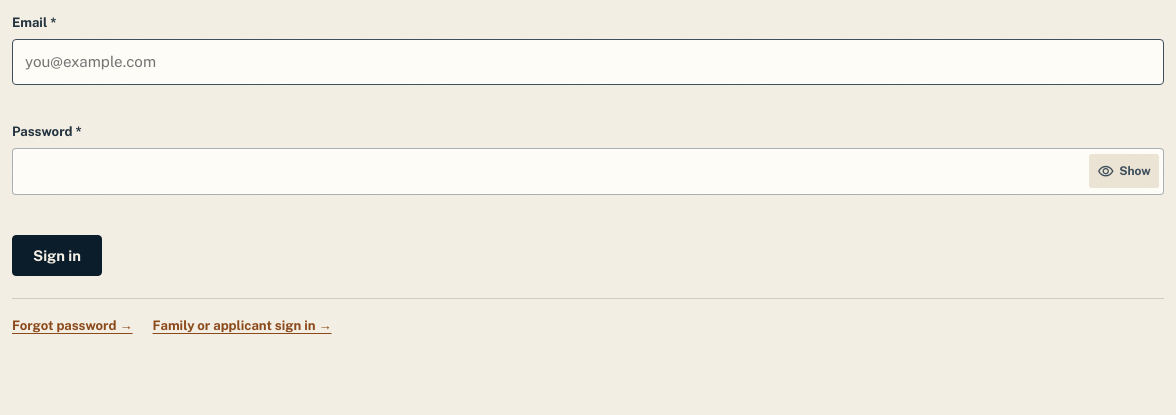
Test: Supabase sign-in privacy › shows a recoverable error for a failed staff sign-in
The image size is (1176, 415).
Step 1. Type "staff@example.test" into the field labelled "Email *" → (588, 62), box 12,39 -> 1164,85
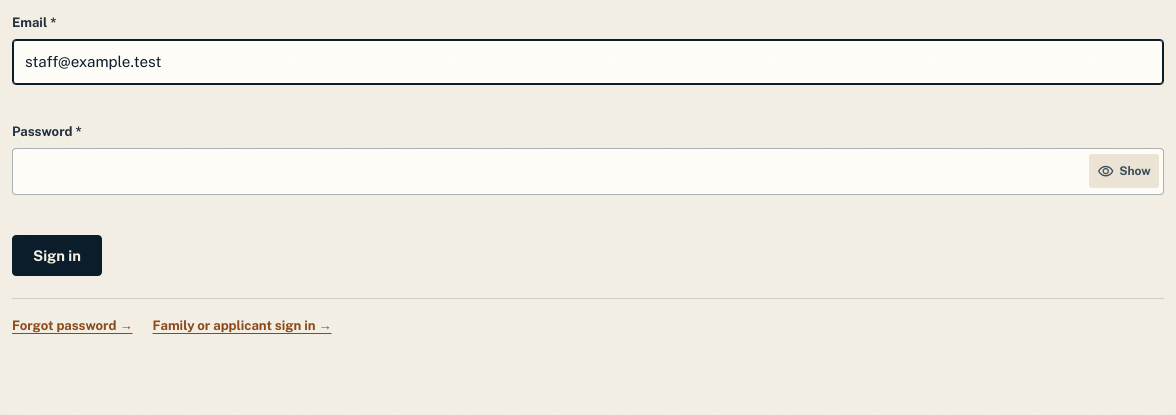
Step 2. Type "SecurePass9" into the password field labelled "Password *" → (588, 171), box 12,148 -> 1164,195
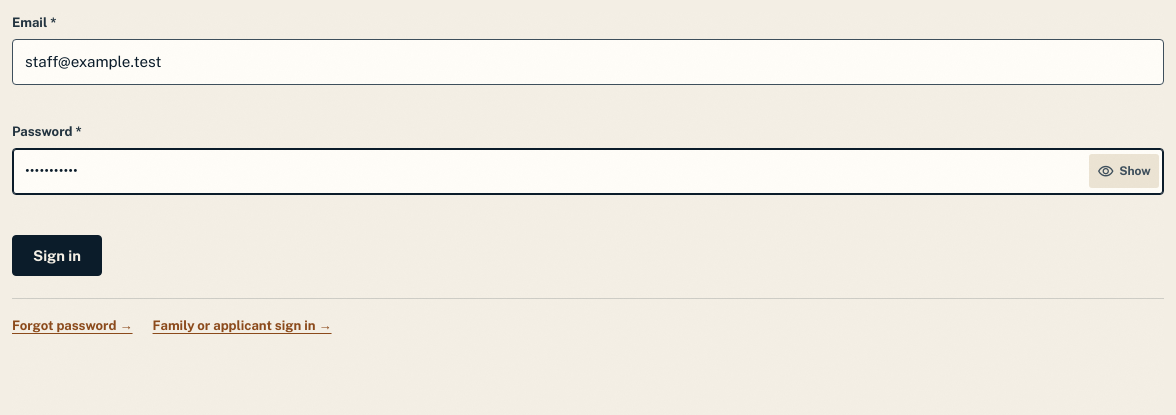
Step 3. Click the button "Sign in" → (57, 255), box 12,235 -> 102,276
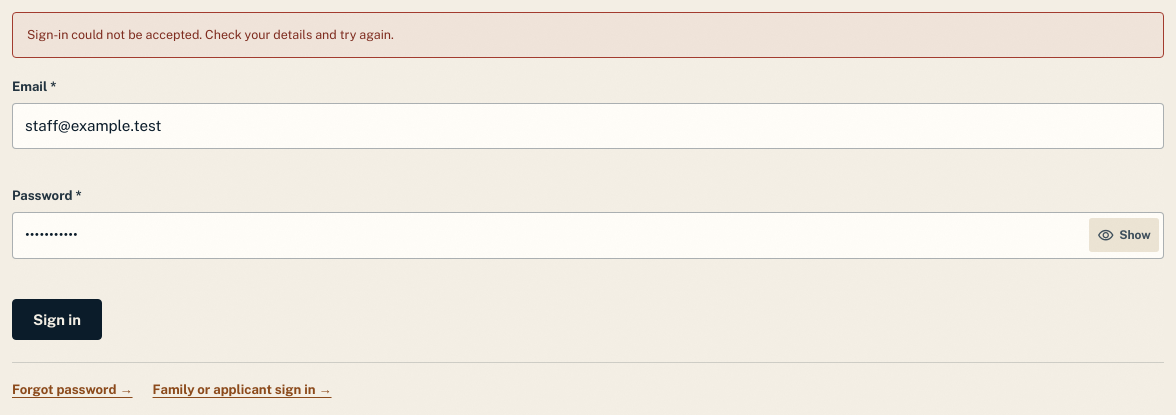
Now the message shows "could not be accepted", box 27,27 -> 394,42
